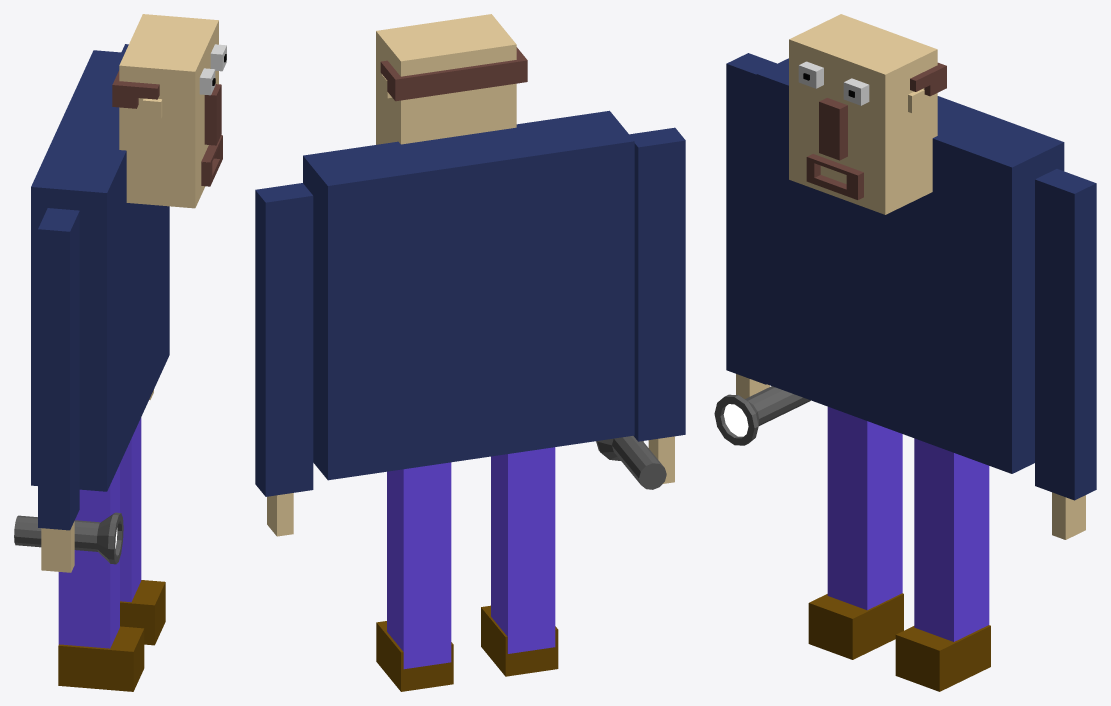
File: man.glb
3 renders of one model, left to right at view 1: azimuth 30°, elevation 25°; view 2: azimuth 150°, elevation 25°; view 3: azimuth 270°, elevation 25°, orthographic. The views are drawn at different scales.
Parts seen in each view (by area): view 1: Cube, Cube.001, Cube.003, Cube.005, Cube.008, Cube.006, Cylinder, Cube.007, Cube.010, Cube.004, Cube.011, Cube.016 (+3 smaller); view 2: Cube, Cube.002, Cube.003, Cube.001, Cube.006, Cube.005, Cube.004, Cube.007, Cube.008, Cylinder, Cube.009, Cube.010; view 3: Cube, Cube.001, Cube.002, Cube.005, Cube.006, Cube.003, Cube.007, Cube.008, Cylinder, Cube.011, Cube.016, Cube.009 (+1 smaller).
Part boxes in pixels (x1,y1,x2,y2): Cube: [31, 50, 169, 491]; Cube.001: [119, 14, 218, 208]; Cube.003: [38, 208, 79, 530]; Cube.005: [58, 464, 119, 648]; Cube.008: [58, 626, 144, 691]; Cube.006: [120, 417, 141, 602]; Cylinder: [14, 512, 123, 564]; Cube.007: [120, 580, 165, 645]; Cube.010: [41, 521, 74, 572]; Cube.004: [112, 70, 159, 108]; Cube.011: [204, 84, 221, 145]; Cube.016: [201, 135, 222, 186]; Cube: [303, 110, 634, 480]; Cube.002: [255, 183, 313, 496]; Cube.003: [629, 127, 685, 441]; Cube.001: [376, 14, 516, 144]; Cube.006: [387, 462, 451, 669]; Cube.005: [491, 447, 555, 653]; Cube.004: [380, 47, 527, 101]; Cube.007: [376, 621, 453, 691]; Cube.008: [481, 605, 558, 676]; Cylinder: [596, 436, 666, 489]; Cube.009: [267, 493, 293, 536]; Cube.010: [648, 436, 674, 483]; Cube: [756, 58, 1064, 473]; Cube.001: [789, 14, 937, 214]; Cube.002: [1035, 169, 1096, 500]; Cube.005: [827, 407, 902, 610]; Cube.006: [914, 438, 989, 641]; Cube.003: [726, 53, 776, 384]; Cube.007: [895, 625, 990, 691]; Cube.008: [808, 593, 903, 659]; Cylinder: [714, 386, 810, 445]; Cube.011: [819, 98, 847, 160]; Cube.016: [806, 154, 863, 199]; Cube.009: [1052, 492, 1085, 539].
Size of what is drawn, in the model's own units: 1.97 by 4.11 by 2.26.
